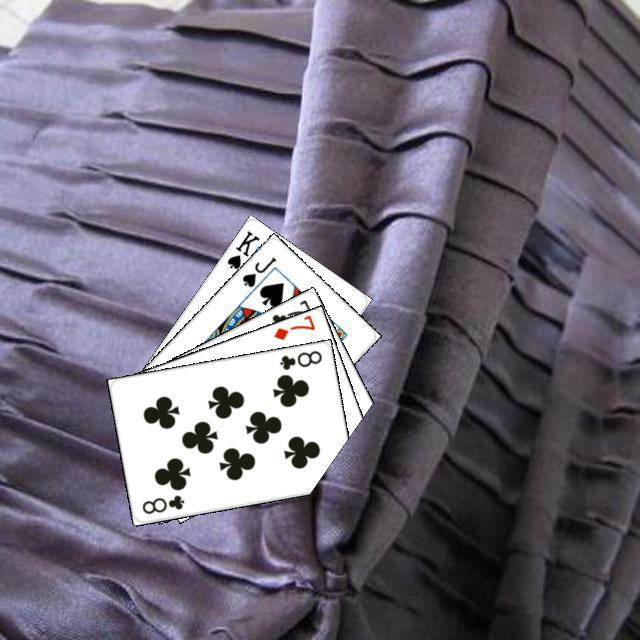7c: (267, 294, 314, 330)
7d: (269, 311, 317, 342)
8c: (275, 345, 323, 372), (137, 490, 186, 516)
Js: (237, 252, 278, 289)
Ks: (222, 226, 262, 271)
